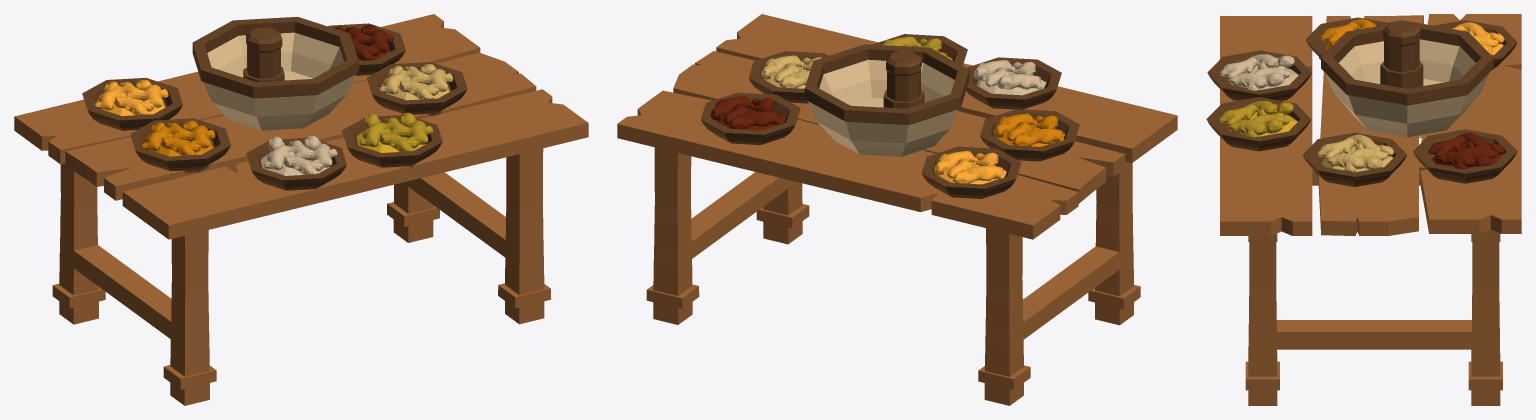
File: menumbuk.fbx
The picture shows the model from 3 angles, left to right: view 1: azimuth 30°, elevation 25°; view 2: azimuth 150°, elevation 25°; view 3: azimuth 270°, elevation 25°; orthographic projection.
Parts seen in each view (by area): view 1: Cube.004, Circle, wadah.007, GingerLowPoly.020, wadah.012, Sphere.018, wadah.009, Sphere.020, Circle.001; view 2: Cube.004, Circle, wadah.009, Sphere.020, wadah.007, wadah.012, Sphere.018, Circle.001, GingerLowPoly.020; view 3: Cube.004, Circle, Sphere.018, Sphere.020, GingerLowPoly.020, wadah.012, Circle.001, wadah.009, wadah.007.
Boxes of the visible parts, x1=… form: Cube.004: x1=14, y1=14, x2=588, y2=405; Circle: x1=192, y1=16, x2=358, y2=130; wadah.007: x1=130, y1=118, x2=230, y2=172; GingerLowPoly.020: x1=342, y1=112, x2=442, y2=168; wadah.012: x1=246, y1=135, x2=346, y2=190; Sphere.018: x1=367, y1=62, x2=467, y2=116; wadah.009: x1=82, y1=78, x2=182, y2=130; Sphere.020: x1=328, y1=23, x2=405, y2=75; Circle.001: x1=243, y1=27, x2=284, y2=81; Cube.004: x1=617, y1=14, x2=1177, y2=405; Circle: x1=804, y1=44, x2=969, y2=156; wadah.009: x1=921, y1=146, x2=1021, y2=198; Sphere.020: x1=700, y1=92, x2=800, y2=144; wadah.007: x1=980, y1=109, x2=1079, y2=161; wadah.012: x1=966, y1=57, x2=1061, y2=109; Sphere.018: x1=748, y1=51, x2=828, y2=103; Circle.001: x1=883, y1=50, x2=924, y2=108; GingerLowPoly.020: x1=873, y1=34, x2=967, y2=65; Cube.004: x1=1220, y1=14, x2=1521, y2=405; Circle: x1=1321, y1=21, x2=1493, y2=138; Sphere.018: x1=1302, y1=132, x2=1406, y2=186; Sphere.020: x1=1413, y1=129, x2=1517, y2=183; GingerLowPoly.020: x1=1206, y1=97, x2=1311, y2=151; wadah.012: x1=1207, y1=50, x2=1311, y2=100; Circle.001: x1=1380, y1=20, x2=1423, y2=88; wadah.009: x1=1434, y1=20, x2=1517, y2=69; wadah.007: x1=1305, y1=17, x2=1389, y2=59.
Bounding box in the file's own units: 610 × 383 × 391.
